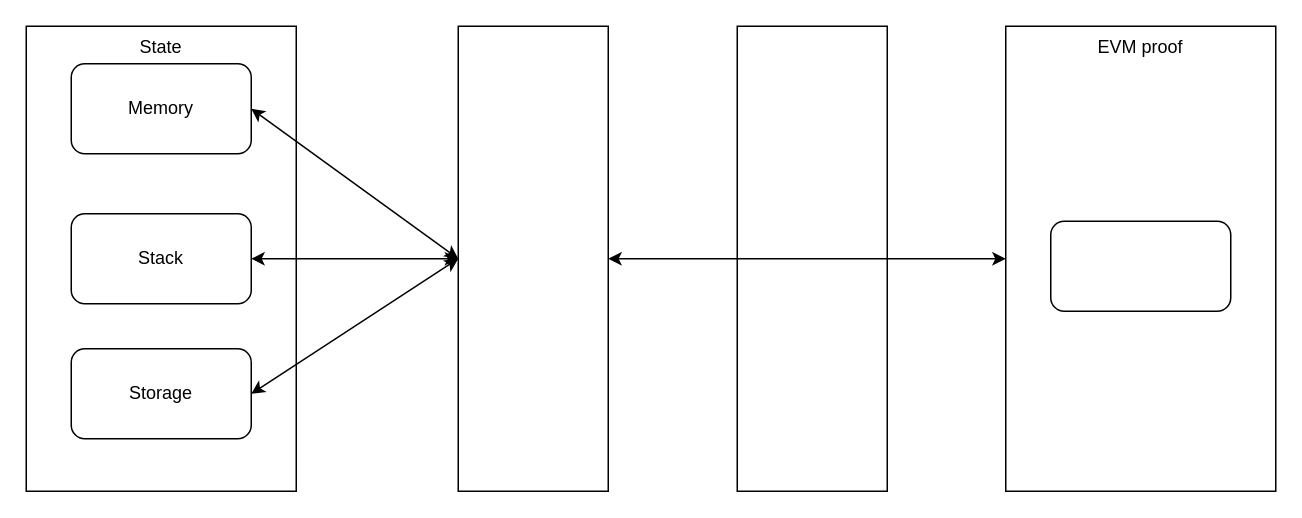
The diagram is 1302 pixels wide and 518 high, and some of its shapes have lost their labels. Here are the shapes that lost their labels. From the top down, the centre of each, then its label:
At pixel 532 258: "Bus Mapping".
At pixel 811 258: "State proof".
At pixel 1140 265: "EVM Execution".
